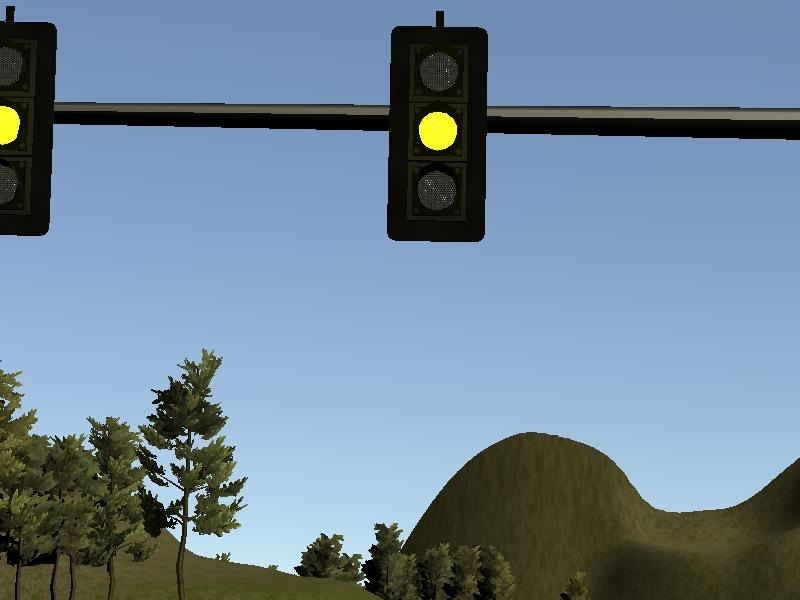yellow: (387, 25, 488, 242)
